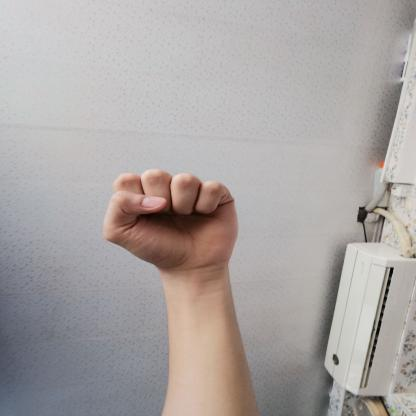SAD: (83, 158, 261, 277)
